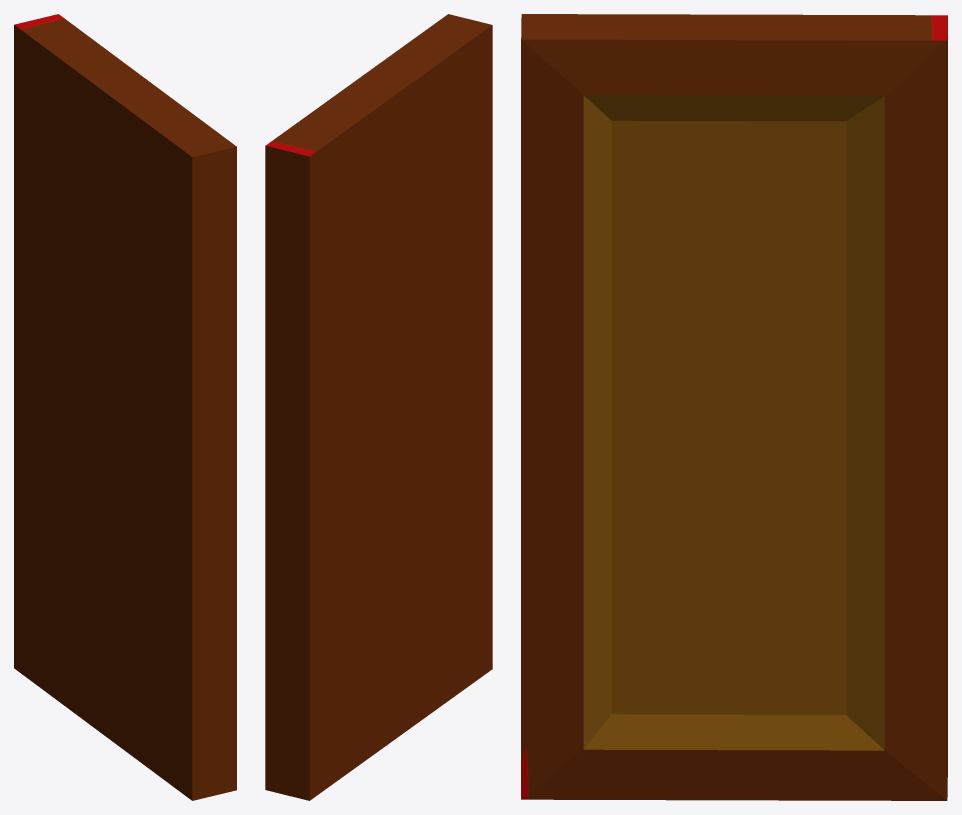
File: door.fbx
3 renders of one model, left to right at view 1: azimuth 30°, elevation 25°; view 2: azimuth 150°, elevation 25°; view 3: azimuth 270°, elevation 25°, orthographic. The views are drawn at different scales.
Visible parts, largest first — view 1: Door; view 2: Door; view 3: Door.
Boxes of the visible parts, x1,y1,x2,y2 form: Door: [14, 14, 236, 800]; Door: [265, 14, 492, 800]; Door: [521, 14, 947, 800].
Size of the model in its own units: 1.41 by 17.19 by 8.75.
